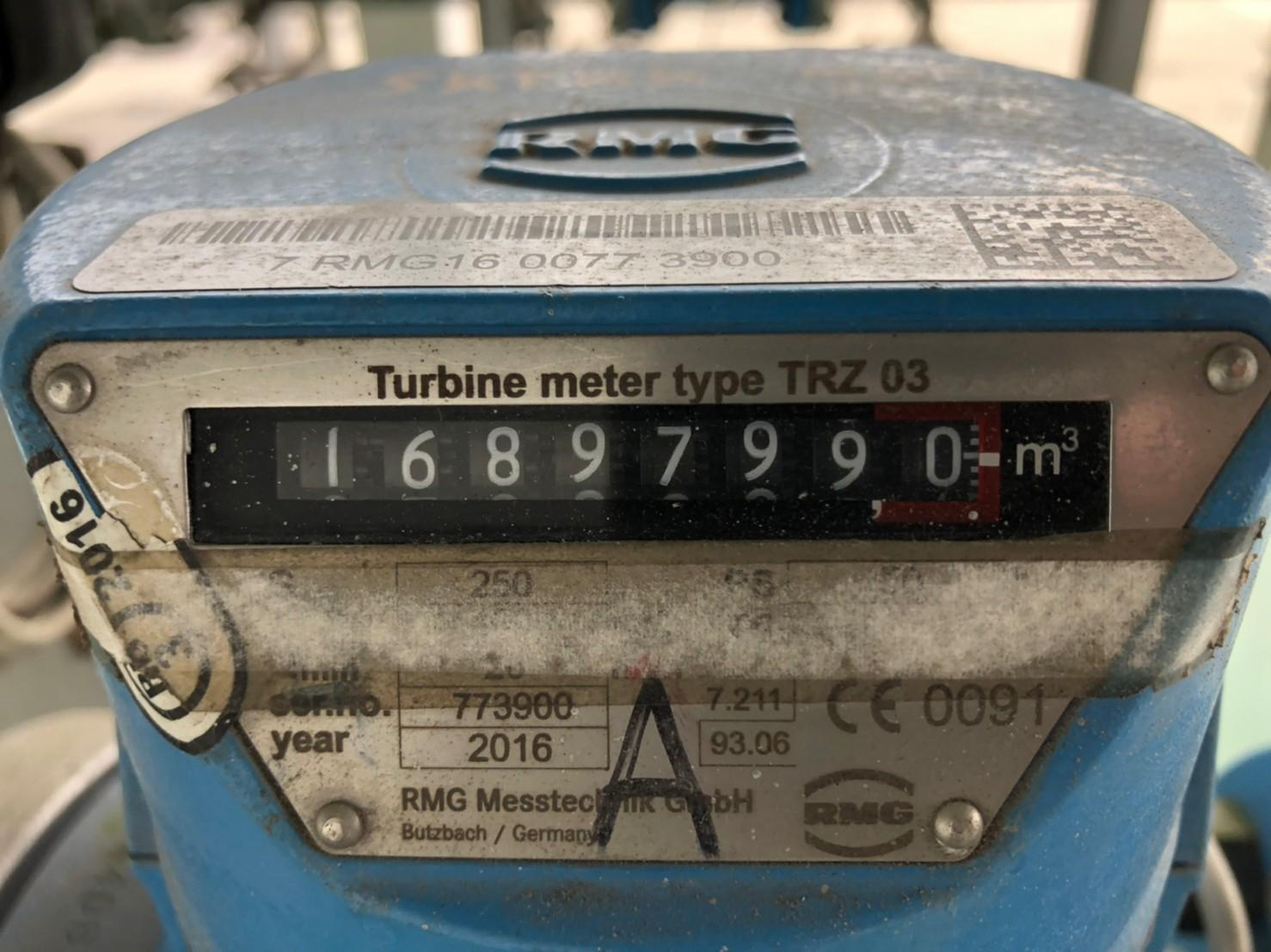analog_dial: (185, 402, 1112, 544)
